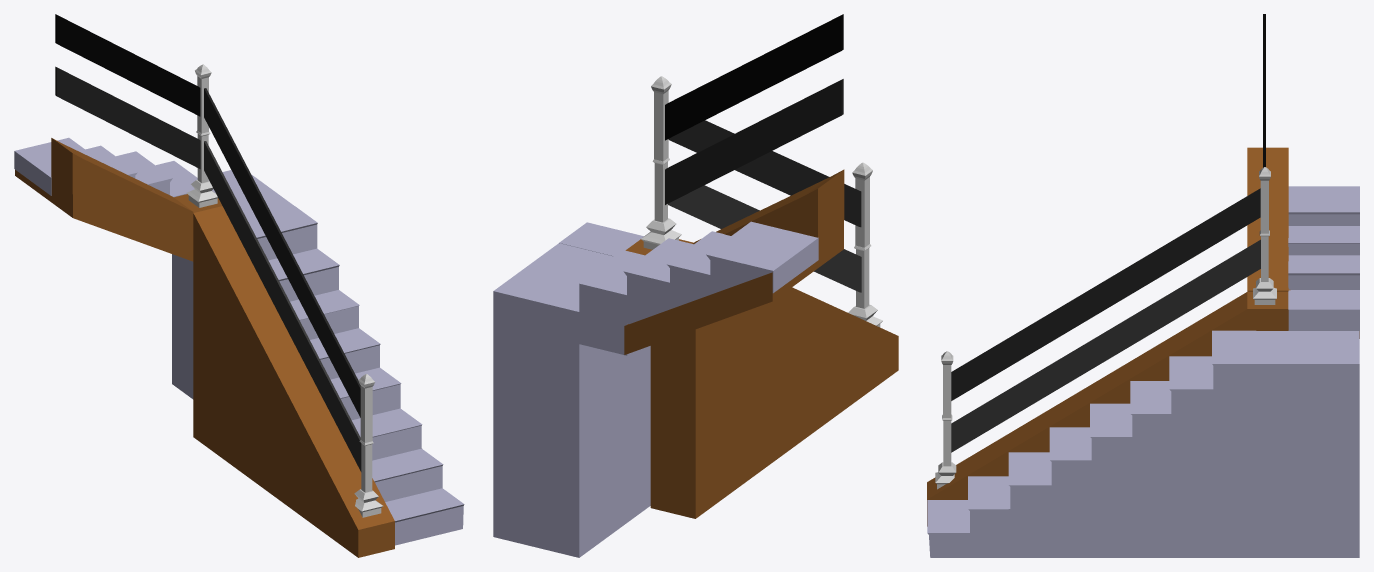
File: Treppe.fbx
3 views of the same model, side by side, from view 1: azimuth 30°, elevation 25°; view 2: azimuth 150°, elevation 25°; view 3: azimuth 270°, elevation 25° (orthographic). The views are drawn at different scales.
Parts seen in each view (by area): view 1: Cube.001, Cube, Cube.005, Cube.004, Cube.008, Cube.006, Cube.002, Cube.003; view 2: Cube, Cube.001, Cube.006, Cube.008, Cube.004, Cube.005, Cube.003, Cube.002; view 3: Cube, Cube.001, Cube.005, Cube.004, Cube.003, Cube.002.
Boxes of the visible parts, x1,y1,x2,y2 form: Cube.001: [15, 138, 394, 557]; Cube: [14, 137, 464, 545]; Cube.005: [204, 141, 361, 471]; Cube.004: [204, 88, 360, 417]; Cube.008: [55, 66, 200, 169]; Cube.006: [55, 14, 200, 116]; Cube.002: [354, 374, 382, 517]; Cube.003: [186, 64, 217, 207]; Cube: [493, 221, 818, 557]; Cube.001: [624, 169, 898, 518]; Cube.006: [665, 14, 843, 140]; Cube.008: [665, 79, 843, 204]; Cube.004: [668, 120, 861, 227]; Cube.005: [668, 185, 861, 292]; Cube.003: [641, 76, 681, 249]; Cube.002: [848, 162, 882, 327]; Cube: [927, 186, 1359, 557]; Cube.001: [927, 147, 1359, 526]; Cube.005: [951, 239, 1260, 452]; Cube.004: [951, 188, 1260, 400]; Cube.003: [1253, 167, 1276, 304]; Cube.002: [935, 351, 956, 489].
Bounding box in the file's own units: 203 × 369 × 333.
